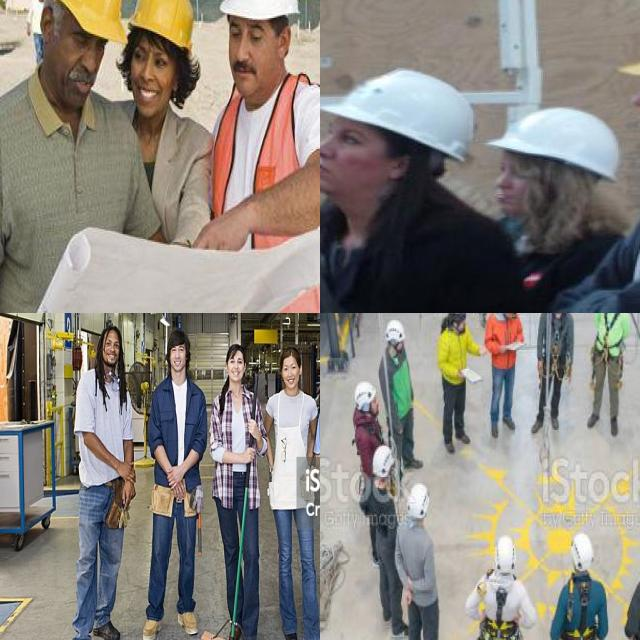Harness: (476, 580, 521, 640), (588, 313, 629, 378), (559, 576, 600, 640), (537, 313, 572, 383)
boots: (89, 606, 123, 640), (178, 610, 202, 634), (144, 613, 161, 640), (284, 629, 299, 640)
face_nomask: (59, 27, 111, 100), (225, 20, 279, 84), (126, 44, 177, 106), (320, 120, 368, 185), (490, 155, 539, 207)
head_helmet: (320, 63, 485, 166), (483, 103, 625, 183), (39, 0, 128, 45), (124, 0, 196, 51), (212, 0, 307, 25)
person: (320, 75, 550, 313), (0, 0, 146, 313), (205, 0, 320, 313), (61, 323, 136, 640), (147, 334, 210, 640), (263, 345, 320, 640), (204, 344, 260, 640)
vest: (208, 74, 320, 313)
